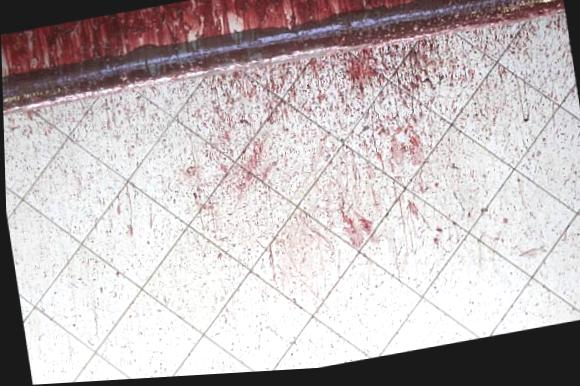Fire: (1, 0, 580, 303)
